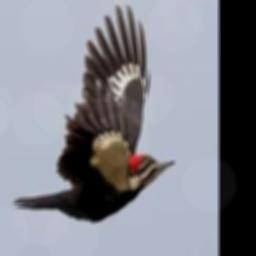Woodpecker: (13, 4, 176, 220)
